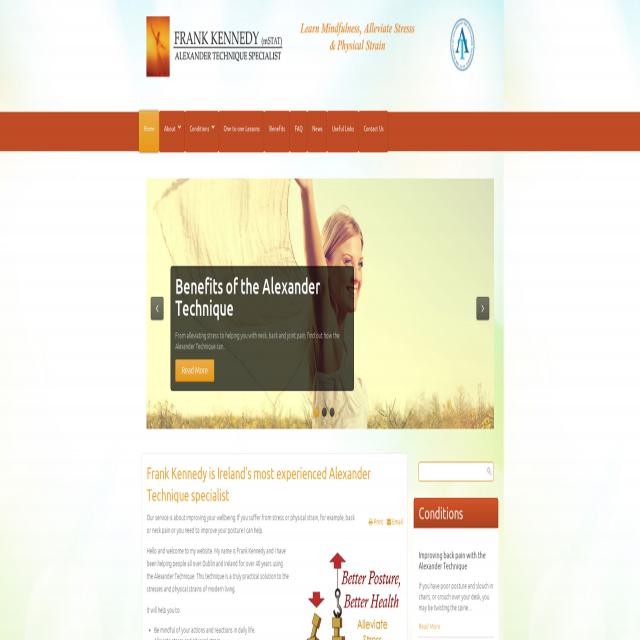button: (302, 543, 404, 640), (146, 16, 282, 77), (297, 16, 418, 58), (219, 111, 264, 153), (448, 16, 476, 74), (185, 111, 219, 153), (327, 111, 359, 153), (359, 111, 388, 153), (159, 111, 185, 153), (264, 111, 290, 153), (175, 359, 214, 382), (139, 111, 159, 153), (307, 111, 327, 153), (290, 111, 307, 153), (476, 297, 490, 321), (150, 298, 163, 320)
field: (418, 462, 494, 482)
